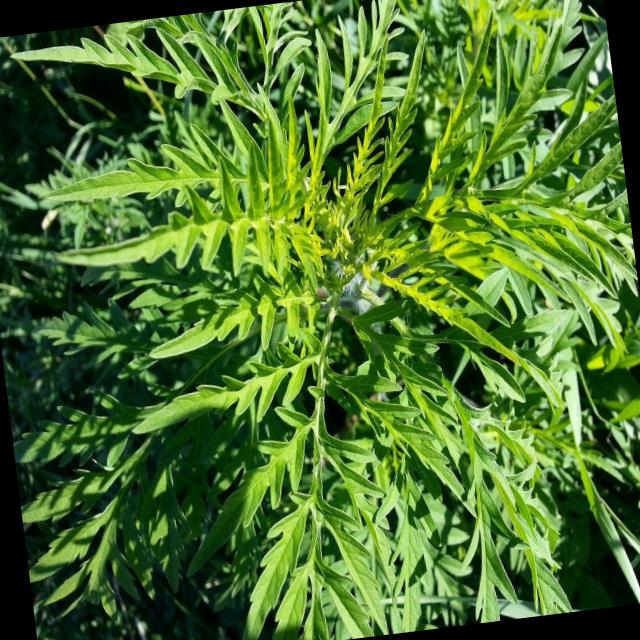ambrosia: (340, 202, 580, 544), (275, 0, 598, 251), (232, 356, 416, 638), (62, 124, 323, 308), (160, 281, 345, 456)
